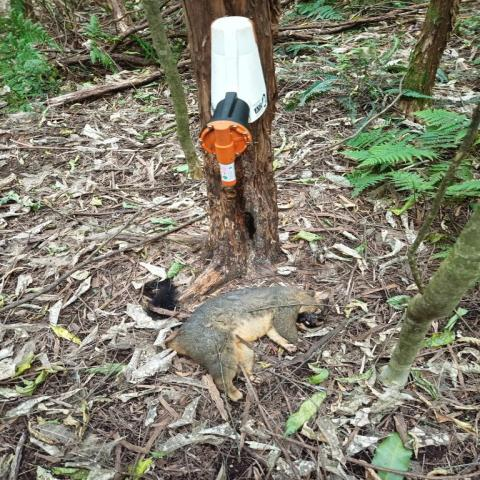small_animal: (162, 284, 328, 404)
